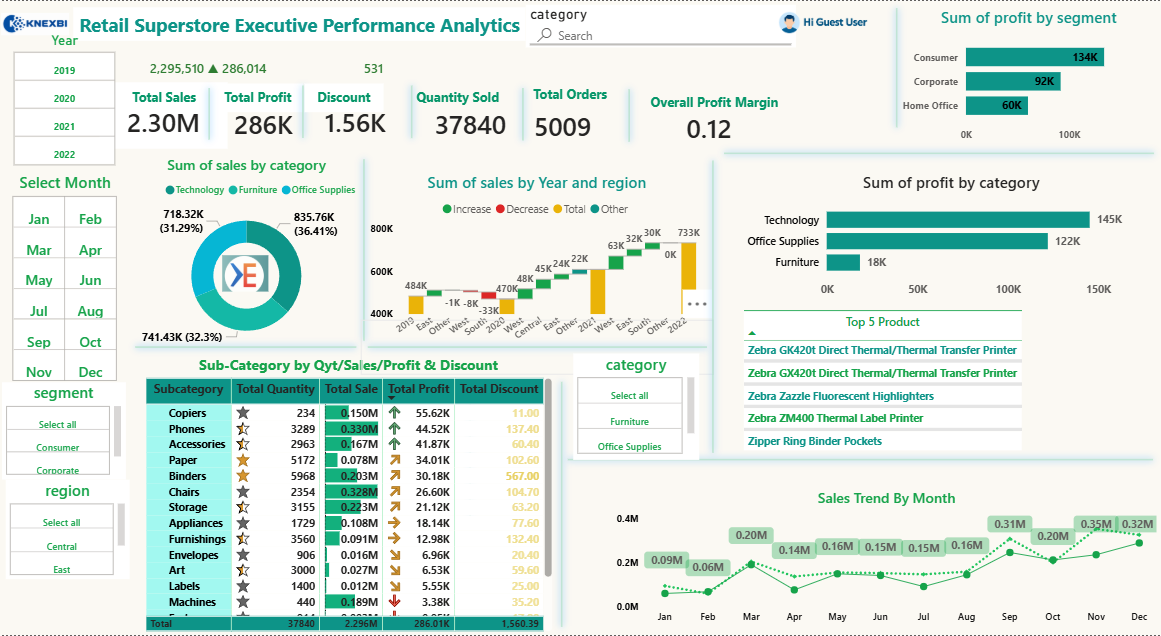

This screenshot's page, from the dashboard's own definition file:
{"tool":"powerbi","page":{"name":"Page 1","canvas":[1330,725],"ordinal":0},"visuals":[{"type":"shape","box":[0,0,1027.5,52.5],"z":0},{"type":"textbox","box":[87.1,7.1,517.1,38.6],"z":1000},{"type":"shape","box":[297.5,48.8,690,37.5],"z":2000},{"type":"cardVisual","title":"Total Sales","fields":{"Data":["superstore_cleaned.Total_sale"]},"box":[117.5,93.5,146,76],"z":3000},{"type":"shape","box":[0,45,153.8,678.8],"z":4000},{"type":"textbox","box":[247.8,94,102,33],"z":5000},{"type":"shape","box":[210,91.2,65,75],"z":7000},{"type":"shape","box":[690.5,93.5,65,76],"z":8000},{"type":"shape","box":[316.8,89,65,76],"z":9000},{"type":"shape","box":[441.2,88.8,65,76.2],"z":10000},{"type":"shape","box":[568.5,91.5,65,76],"z":11000},{"type":"cardVisual","title":"Total Sales","fields":{"Data":["superstore_cleaned.Total_Profit"]},"box":[242.5,96.2,123.8,67.5],"z":12000},{"type":"textbox","box":[139.5,94.5,102,33],"z":13000},{"type":"textbox","box":[351.8,95,90,33],"z":14000},{"type":"cardVisual","title":"Total Sales","fields":{"Data":["Sum(superstore_cleaned.discount)"]},"box":[351.2,92.5,116.2,67.5],"z":15000},{"type":"textbox","box":[458.8,94,136,33],"z":16000},{"type":"cardVisual","title":"Total Sales","fields":{"Data":["Sum(superstore_cleaned.quantity)"]},"box":[478.8,95,125,70],"z":17000},{"type":"textbox","box":[720.8,100,197,33],"z":18000},{"type":"cardVisual","title":"Total Sales","fields":{"Data":["superstore_cleaned.Total_Order"]},"box":[591.5,96.5,110,73],"z":19000},{"type":"cardVisual","title":"Total Sales","fields":{"Data":["superstore_cleaned.Overall_Profit_Margin"]},"box":[762.5,99.5,102,70],"z":20000},{"type":"textbox","box":[599.8,91,110,31],"z":22000},{"type":"donutChart","fields":{"Category":["superstore_cleaned.category"],"Y":["Sum(superstore_cleaned.sales)"]},"box":[151.2,176.2,267.5,227.5],"z":23000},{"type":"image","box":[248.9,285.6,70,51.1],"z":24000},{"type":"lineChart","title":"Sales Trend By Month","fields":{"Y":["superstore_cleaned.total_revenue"],"Y2":["superstore_cleaned.Total_Profit"],"Category":["superstore_cleaned.MonthName"]},"box":[702.5,555,627.5,165],"z":25000},{"type":"shape","box":[387.8,173.3,64.4,223.3],"z":26000},{"type":"waterfallChart","fields":{"Category":["superstore_cleaned.Year"],"Y":["Sum(superstore_cleaned.sales)"],"Breakdown":["superstore_cleaned.region"]},"box":[421.2,195,391.2,201.2],"z":27000},{"type":"shape","box":[645,492.5,685,62.5],"z":28000},{"type":"shape","box":[150,365,268.8,62.5],"z":29000},{"type":"shape","box":[508.9,447.8,64.4,152.2],"z":30000},{"type":"tableEx","title":"Sub-Category by Qyt/Sales/Profit & Discount","fields":{"Values":["superstore_cleaned.subcategory","superstore_cleaned.Total Quantity","superstore_cleaned.Total_sale","superstore_cleaned.Total_Profit","superstore_cleaned.Total Discount"]},"box":[163.8,403.8,475,321.2],"z":31000},{"type":"shape","box":[612.5,427.5,65,296.2],"z":32000},{"type":"shape","box":[415,365,403.8,62.5],"z":33000},{"type":"shape","box":[786.2,173.8,65,350],"z":34000},{"type":"barChart","fields":{"Category":["superstore_cleaned.segment"],"Y":["Sum(superstore_cleaned.profit)"]},"box":[1028.8,7.5,301.2,162.5],"z":35000},{"type":"shape","box":[822.5,142.5,507.5,62.5],"z":36000},{"type":"clusteredBarChart","fields":{"Category":["superstore_cleaned.category"],"Y":["Sum(superstore_cleaned.profit)"]},"box":[851.2,196.2,478.8,152.5],"z":37000},{"type":"tableEx","fields":{"Values":["superstore_cleaned.product_name"]},"box":[847.5,348.8,478.8,220],"z":38000},{"type":"shape","box":[996.2,0,65,152.5],"z":39000},{"type":"image","box":[0,0,87.5,52.5],"z":40000},{"type":"advancedSlicerVisual","fields":{"Values":["superstore_cleaned.category"]},"box":[603.8,3.8,308.8,48.8],"z":41000},{"type":"image","box":[851.2,0,188.8,52.5],"z":42000},{"type":"cardVisual","fields":{"Data":["superstore_cleaned.Ticker Text","Count(superstore_cleaned.city)"]},"box":[146.2,41.2,380,47.5],"z":43000},{"type":"advancedSlicerVisual","title":"Select Month","fields":{"Values":["superstore_cleaned.MonthName"]},"box":[12.5,195,130,248.8],"z":43002},{"type":"advancedSlicerVisual","fields":{"Values":["superstore_cleaned.Year"]},"box":[13.8,36.2,126.2,158.8],"z":43003},{"type":"advancedSlicerVisual","fields":{"Values":["superstore_cleaned.segment"]},"box":[6.2,436.2,141.2,111.2],"z":43004},{"type":"advancedSlicerVisual","fields":{"Values":["superstore_cleaned.region"]},"box":[10,547.5,141.2,113.8],"z":43005},{"type":"advancedSlicerVisual","fields":{"Values":["superstore_cleaned.category"]},"box":[658.8,402.5,143.8,121.2],"z":43006}]}

Visuals, with their boxes in screenshot pixels (x1, y1, x2, y2), scaled from the page's 1330x725 canvas onto the 1161x636 screenshot:
shape: {"x1": 0, "y1": 0, "x2": 897, "y2": 46}
textbox: {"x1": 76, "y1": 6, "x2": 527, "y2": 40}
shape: {"x1": 260, "y1": 43, "x2": 862, "y2": 76}
"Total Sales" cardVisual: {"x1": 103, "y1": 82, "x2": 230, "y2": 149}
shape: {"x1": 0, "y1": 39, "x2": 134, "y2": 635}
textbox: {"x1": 216, "y1": 82, "x2": 305, "y2": 111}
shape: {"x1": 183, "y1": 80, "x2": 240, "y2": 146}
shape: {"x1": 603, "y1": 82, "x2": 660, "y2": 149}
shape: {"x1": 277, "y1": 78, "x2": 333, "y2": 145}
shape: {"x1": 385, "y1": 78, "x2": 442, "y2": 145}
shape: {"x1": 496, "y1": 80, "x2": 553, "y2": 147}
"Total Sales" cardVisual: {"x1": 212, "y1": 84, "x2": 320, "y2": 144}
textbox: {"x1": 122, "y1": 83, "x2": 211, "y2": 112}
textbox: {"x1": 307, "y1": 83, "x2": 386, "y2": 112}
"Total Sales" cardVisual: {"x1": 307, "y1": 81, "x2": 408, "y2": 140}
textbox: {"x1": 401, "y1": 82, "x2": 519, "y2": 111}
"Total Sales" cardVisual: {"x1": 418, "y1": 83, "x2": 527, "y2": 145}
textbox: {"x1": 629, "y1": 88, "x2": 801, "y2": 117}
"Total Sales" cardVisual: {"x1": 516, "y1": 85, "x2": 612, "y2": 149}
"Total Sales" cardVisual: {"x1": 666, "y1": 87, "x2": 755, "y2": 149}
textbox: {"x1": 524, "y1": 80, "x2": 620, "y2": 107}
donutChart - superstore_cleaned.category x Sum(superstore_cleaned.sales): {"x1": 132, "y1": 155, "x2": 365, "y2": 354}
image: {"x1": 217, "y1": 251, "x2": 278, "y2": 295}
"Sales Trend By Month" lineChart: {"x1": 613, "y1": 487, "x2": 1160, "y2": 632}
shape: {"x1": 339, "y1": 152, "x2": 395, "y2": 348}
waterfallChart - superstore_cleaned.Year x Sum(superstore_cleaned.sales): {"x1": 368, "y1": 171, "x2": 709, "y2": 348}
shape: {"x1": 563, "y1": 432, "x2": 1160, "y2": 487}
shape: {"x1": 131, "y1": 320, "x2": 366, "y2": 375}
shape: {"x1": 444, "y1": 393, "x2": 500, "y2": 526}
"Sub-Category by Qyt/Sales/Profit & Discount" tableEx: {"x1": 143, "y1": 354, "x2": 558, "y2": 635}
shape: {"x1": 535, "y1": 375, "x2": 591, "y2": 635}
shape: {"x1": 362, "y1": 320, "x2": 715, "y2": 375}
shape: {"x1": 686, "y1": 152, "x2": 743, "y2": 459}
barChart - superstore_cleaned.segment x Sum(superstore_cleaned.profit): {"x1": 898, "y1": 7, "x2": 1160, "y2": 149}
shape: {"x1": 718, "y1": 125, "x2": 1160, "y2": 180}
clusteredBarChart - superstore_cleaned.category x Sum(superstore_cleaned.profit): {"x1": 743, "y1": 172, "x2": 1160, "y2": 306}
tableEx - superstore_cleaned.product_name: {"x1": 740, "y1": 306, "x2": 1158, "y2": 499}
shape: {"x1": 870, "y1": 0, "x2": 926, "y2": 134}
image: {"x1": 0, "y1": 0, "x2": 76, "y2": 46}
advancedSlicerVisual - superstore_cleaned.category: {"x1": 527, "y1": 3, "x2": 797, "y2": 46}
image: {"x1": 743, "y1": 0, "x2": 908, "y2": 46}
cardVisual - superstore_cleaned.Ticker Text x Count(superstore_cleaned.city): {"x1": 128, "y1": 36, "x2": 459, "y2": 78}
"Select Month" advancedSlicerVisual: {"x1": 11, "y1": 171, "x2": 124, "y2": 389}
advancedSlicerVisual - superstore_cleaned.Year: {"x1": 12, "y1": 32, "x2": 122, "y2": 171}
advancedSlicerVisual - superstore_cleaned.segment: {"x1": 5, "y1": 383, "x2": 129, "y2": 480}
advancedSlicerVisual - superstore_cleaned.region: {"x1": 9, "y1": 480, "x2": 132, "y2": 580}
advancedSlicerVisual - superstore_cleaned.category: {"x1": 575, "y1": 353, "x2": 701, "y2": 459}
